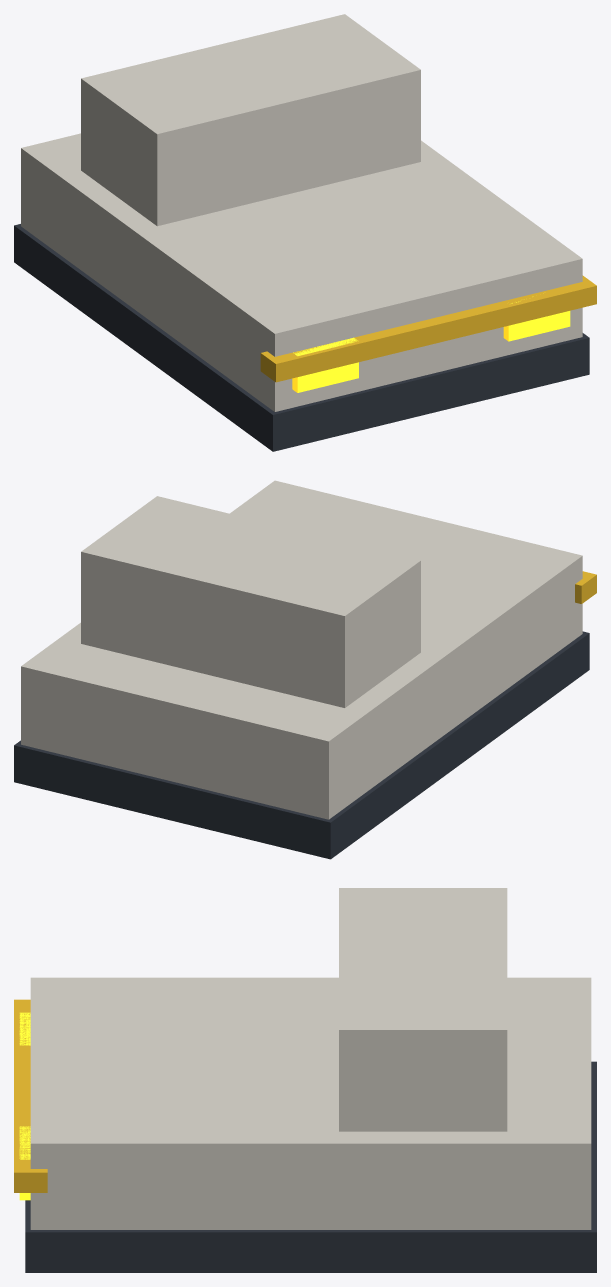
The model's file is robot_foot.glb.
The picture shows the model from 3 angles, top to bottom: view 1: azimuth 30°, elevation 25°; view 2: azimuth 150°, elevation 25°; view 3: azimuth 270°, elevation 25°; orthographic projection. The views are drawn at different scales.
Parts seen in each view (by area): view 1: robot_foot_armor, robot_foot_steelDark, robot_foot_yellow, robot_foot_glowAmber; view 2: robot_foot_armor, robot_foot_steelDark, robot_foot_yellow; view 3: robot_foot_armor, robot_foot_steelDark, robot_foot_yellow, robot_foot_glowAmber.
Boxes of the visible parts, <box> form: robot_foot_armor: <box>21,14,582,411</box>; robot_foot_steelDark: <box>14,224,589,451</box>; robot_foot_yellow: <box>260,275,596,382</box>; robot_foot_glowAmber: <box>292,293,570,392</box>; robot_foot_armor: <box>21,480,582,819</box>; robot_foot_steelDark: <box>14,631,589,859</box>; robot_foot_yellow: <box>575,571,596,603</box>; robot_foot_armor: <box>30,888,591,1229</box>; robot_foot_steelDark: <box>25,1061,596,1272</box>; robot_foot_yellow: <box>14,999,47,1192</box>; robot_foot_glowAmber: <box>19,1012,30,1200</box>.
Size of the model in its own units: 7.3 by 4.5 by 10.4.
